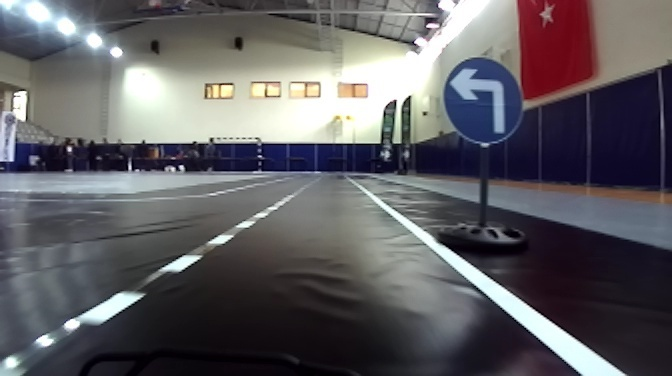sola_donus: (447, 58, 524, 139)
